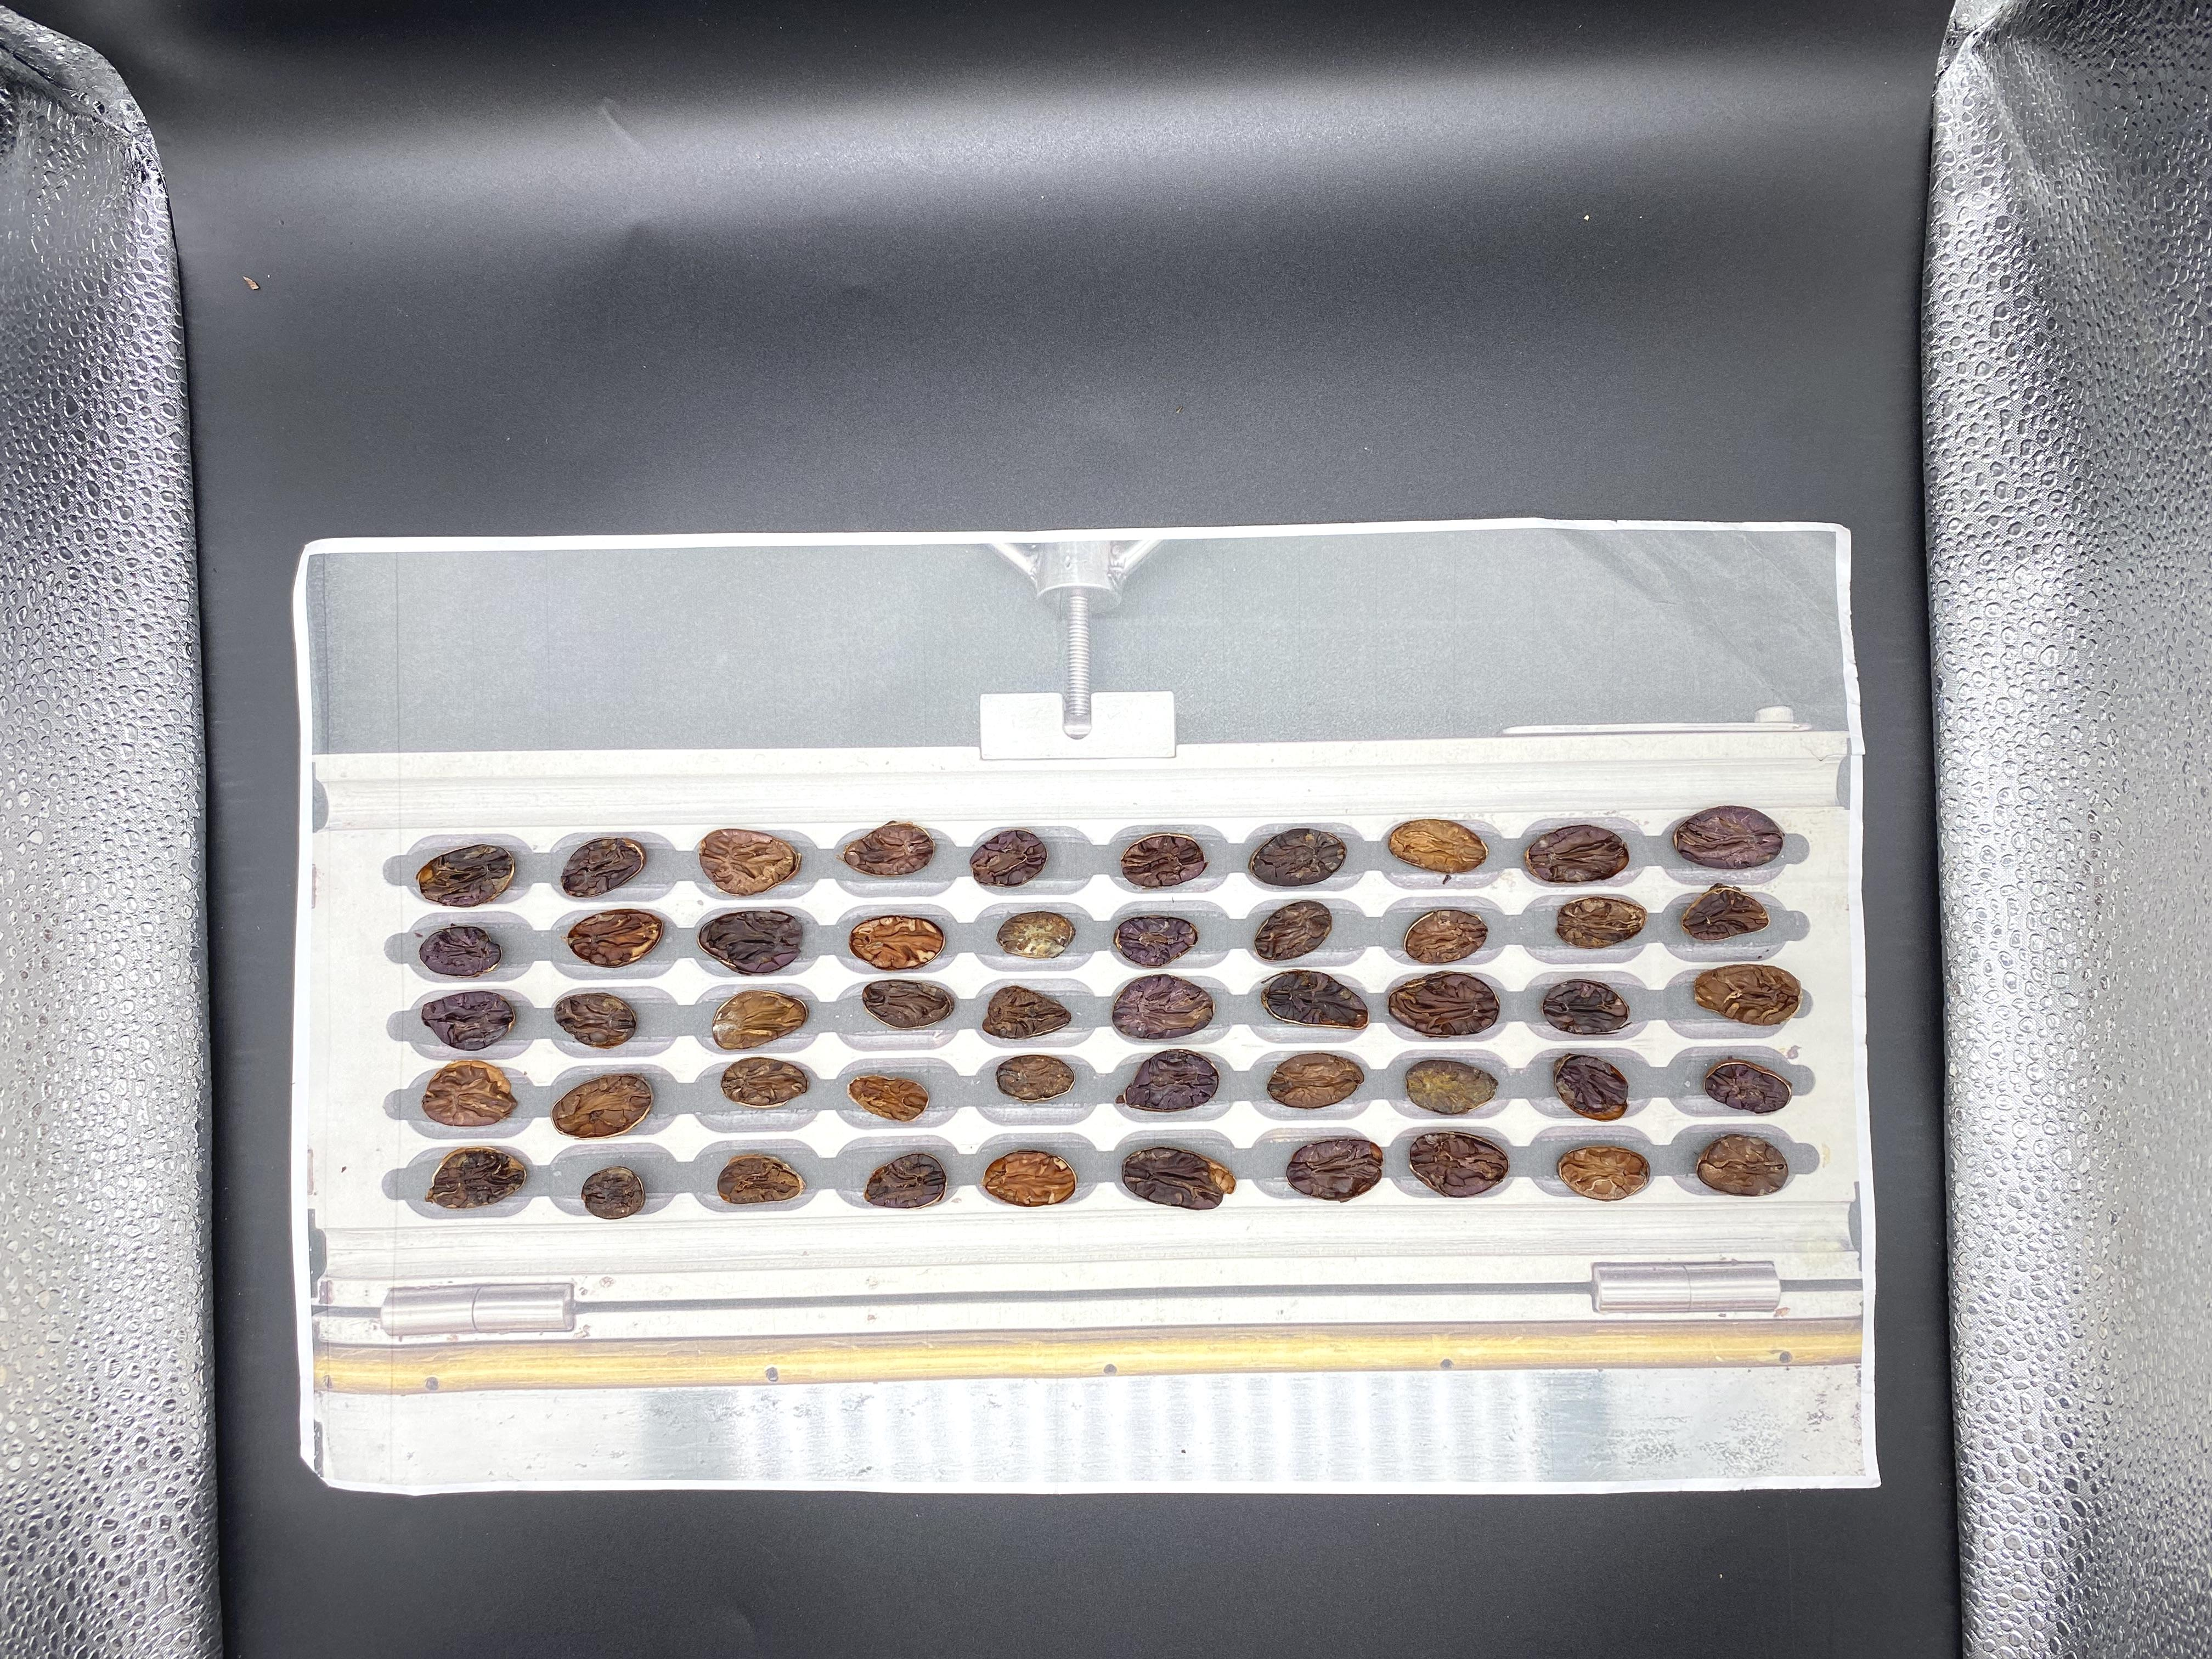Brown - G1: (1792, 491, 1853, 530), (1301, 537, 1353, 579), (1374, 458, 1430, 495), (1585, 582, 1639, 615), (1874, 453, 1928, 484), (1519, 464, 1571, 495), (1454, 535, 1503, 568), (1517, 542, 1562, 572)
Brown - G2: (1946, 488, 2006, 525), (1442, 420, 1500, 458), (1514, 415, 1566, 450), (1879, 580, 1930, 613), (1587, 497, 1635, 530), (1799, 460, 1850, 491)
Brown - G3: (1366, 544, 1425, 580), (1947, 573, 2001, 613), (1791, 413, 1848, 446), (1730, 533, 1787, 566), (1451, 584, 1500, 617)
Brown - G4: (1590, 533, 1637, 563)
Insect-damaged: (1801, 537, 1853, 570)
Mouldy: (1447, 500, 1501, 535), (1592, 460, 1639, 490)
Partly Purple - G1: (1440, 460, 1500, 498), (1656, 420, 1705, 455)
Partly Purple - G2: (1299, 423, 1353, 465), (1653, 493, 1710, 532), (1726, 491, 1787, 526), (1738, 577, 1794, 613), (1862, 416, 1919, 451), (1372, 422, 1420, 458), (1526, 584, 1575, 617), (1580, 420, 1625, 455)
Total Purple - G2: (1301, 500, 1352, 537), (1651, 462, 1703, 495)
Total Purple - G3: (1939, 406, 1998, 448), (1653, 533, 1710, 568), (1949, 538, 2001, 568), (1301, 467, 1348, 498)
Very Dark Brown - G1: (1658, 579, 1719, 619), (1303, 580, 1359, 619), (1869, 533, 1918, 573)
Very Dark Brown - G2: (1801, 573, 1858, 613), (1869, 495, 1921, 528), (1723, 455, 1770, 490), (1942, 450, 1993, 481), (1369, 502, 1416, 535)
Very Dark Brown - G3: (1721, 418, 1775, 455), (1524, 497, 1578, 526), (1383, 589, 1420, 622)
